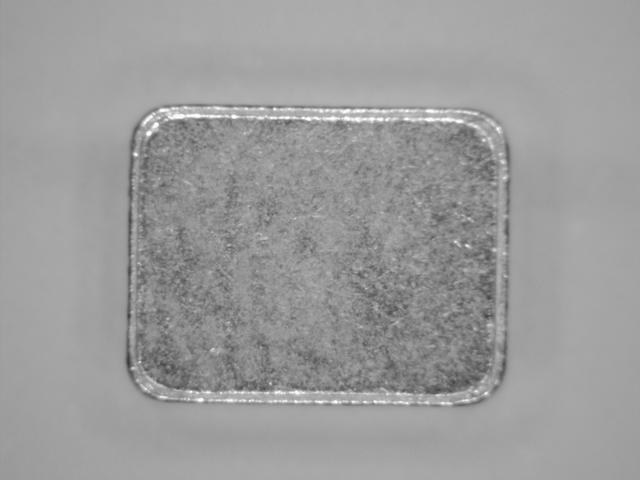nok: (122, 102, 516, 412)
